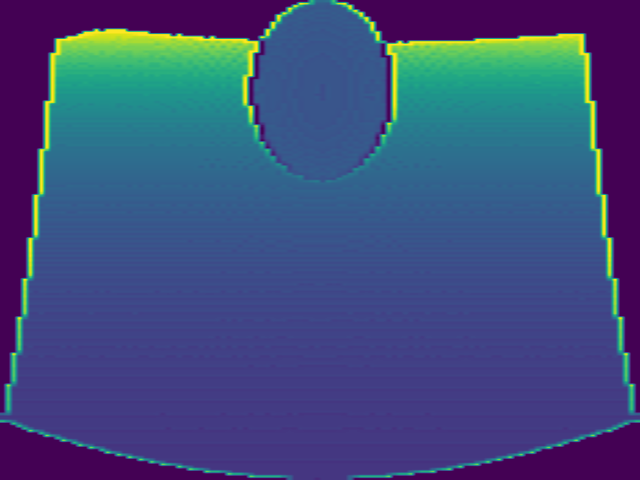sphere: (241, 1, 398, 182)
